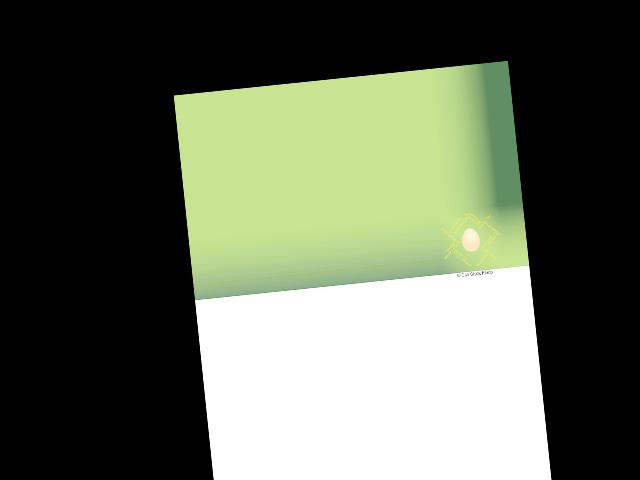egg: (461, 227, 481, 252)
